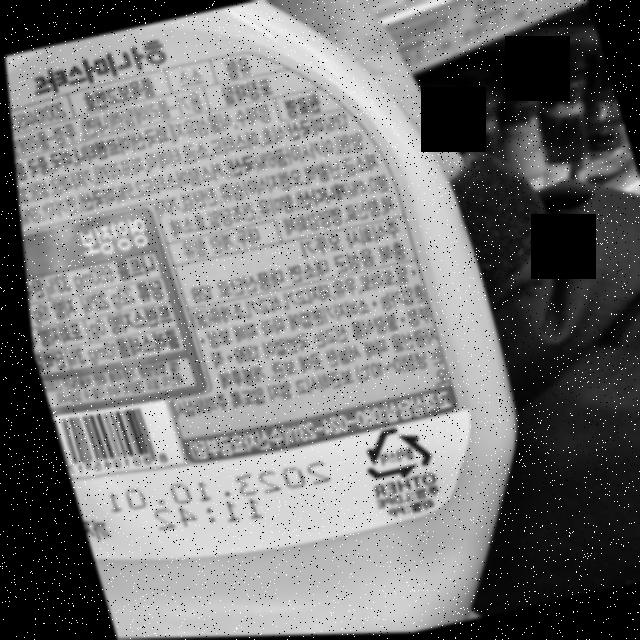Plastic: (343, 421, 429, 488)
